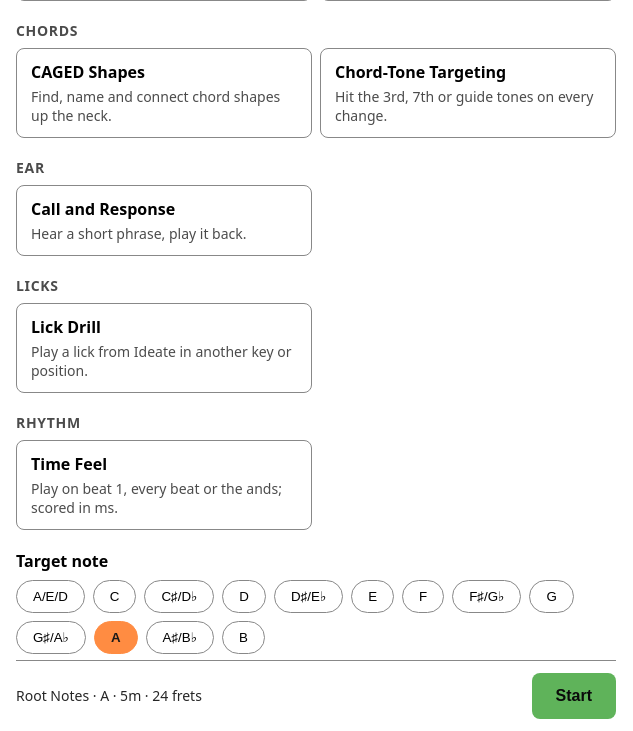
Test: StartScreen — Lick Drill › explains how to make a lick when none are saved, and cannot start
(page scrolled)
Click the button that starts with "Lick Drill".
click(164, 348)  # box top-left (16, 303), bottom-right (312, 393)
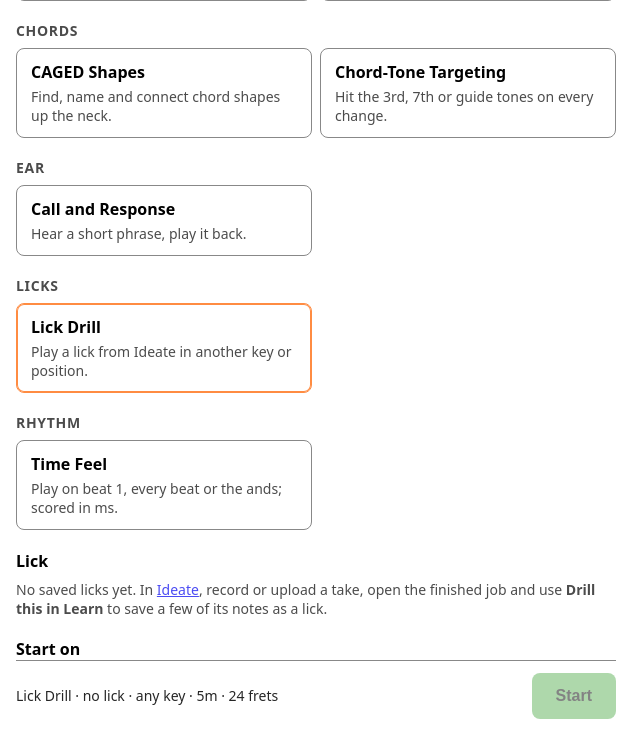
Expected: the text "No saved licks yet" is shown, top-left (16, 580), bottom-right (157, 599)
Expected: the button with class "start-button" is disabled, top-left (532, 673), bottom-right (616, 719)
